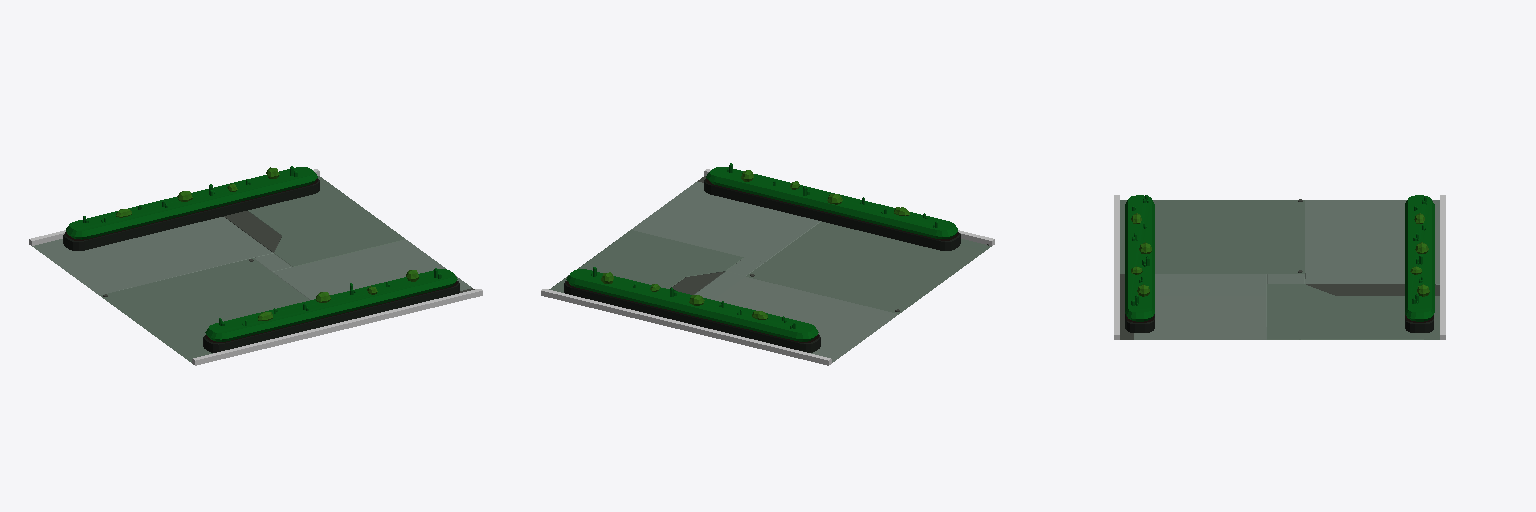
The picture shows the model from 3 angles: view 1: azimuth 30°, elevation 25°; view 2: azimuth 150°, elevation 25°; view 3: azimuth 270°, elevation 25°; orthographic projection.
Parts seen in each view (by area): view 1: Scifi_Panel_04_Plaza014_group4.011_Scifi_Panel_04_Plaza014_group, TreePatch_Plaza014_group3.026_TreePatch_Plaza014_group3.032, TreePatch_Plaza014_group3.027_TreePatch_Plaza014_group3.033, Cube.635_Cube.752; view 2: Scifi_Panel_04_Plaza014_group4.011_Scifi_Panel_04_Plaza014_group, TreePatch_Plaza014_group3.027_TreePatch_Plaza014_group3.033, TreePatch_Plaza014_group3.026_TreePatch_Plaza014_group3.032, Cube.636_Cube.753; view 3: Scifi_Panel_04_Plaza014_group4.011_Scifi_Panel_04_Plaza014_group, TreePatch_Plaza014_group3.027_TreePatch_Plaza014_group3.033, TreePatch_Plaza014_group3.026_TreePatch_Plaza014_group3.032, Cube.636_Cube.753, Cube.635_Cube.752.
Boxes of the visible parts, x1=… form: Scifi_Panel_04_Plaza014_group4.011_Scifi_Panel_04_Plaza014_group: x1=32, y1=176, x2=474, y2=362; TreePatch_Plaza014_group3.026_TreePatch_Plaza014_group3.032: x1=63, y1=167, x2=319, y2=250; TreePatch_Plaza014_group3.027_TreePatch_Plaza014_group3.033: x1=203, y1=269, x2=459, y2=352; Cube.635_Cube.752: x1=192, y1=289, x2=482, y2=365; Scifi_Panel_04_Plaza014_group4.011_Scifi_Panel_04_Plaza014_group: x1=549, y1=176, x2=991, y2=362; TreePatch_Plaza014_group3.027_TreePatch_Plaza014_group3.033: x1=704, y1=167, x2=960, y2=250; TreePatch_Plaza014_group3.026_TreePatch_Plaza014_group3.032: x1=564, y1=269, x2=820, y2=352; Cube.636_Cube.753: x1=541, y1=289, x2=831, y2=365; Scifi_Panel_04_Plaza014_group4.011_Scifi_Panel_04_Plaza014_group: x1=1120, y1=199, x2=1439, y2=339; TreePatch_Plaza014_group3.027_TreePatch_Plaza014_group3.033: x1=1125, y1=195, x2=1154, y2=332; TreePatch_Plaza014_group3.026_TreePatch_Plaza014_group3.032: x1=1405, y1=195, x2=1434, y2=332; Cube.636_Cube.753: x1=1440, y1=195, x2=1445, y2=339; Cube.635_Cube.752: x1=1114, y1=195, x2=1119, y2=339.
Bounding box in the file's own units: 10 × 0.9439 × 10.